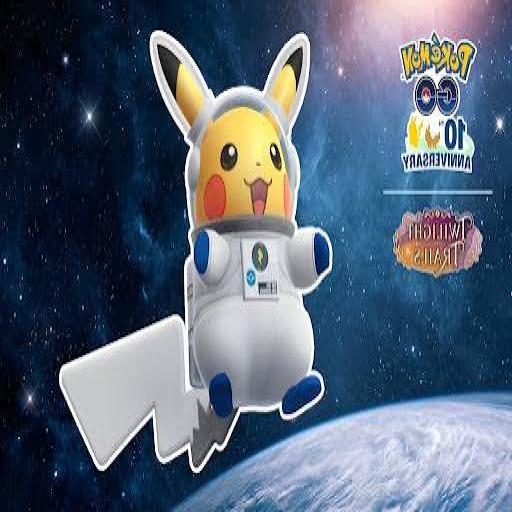Pikachu: (60, 32, 331, 470)
